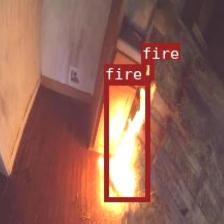fire: (104, 80, 150, 200), (141, 59, 153, 79)
